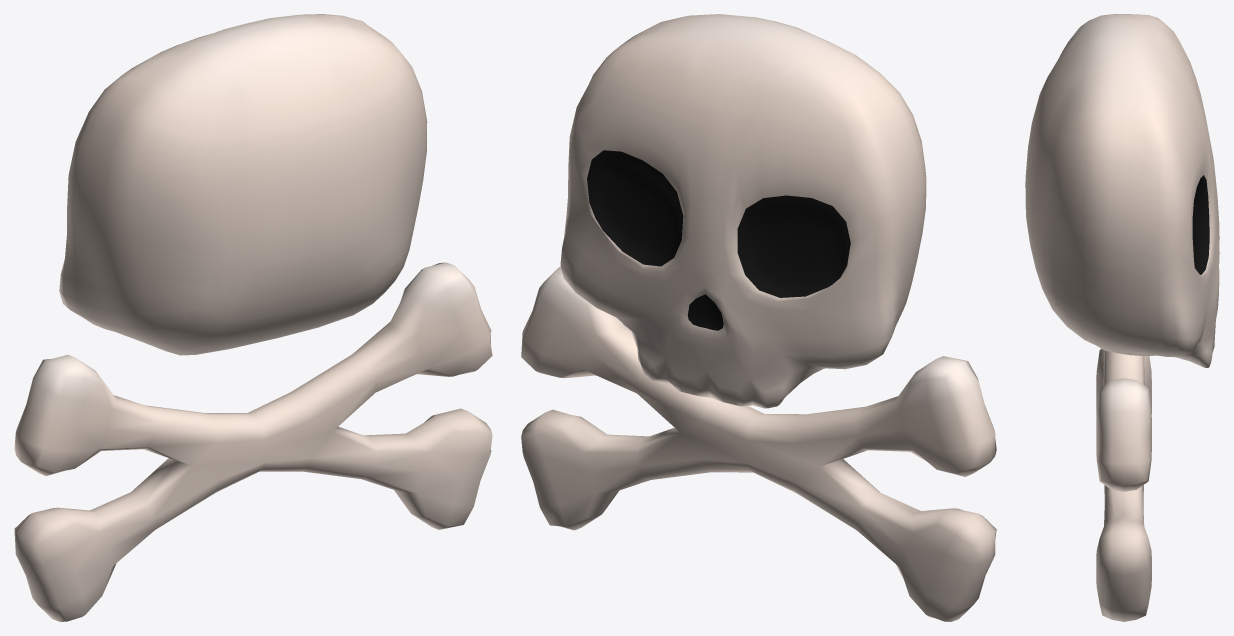
File: SkullBones.fbx
3 views of the same model, side by side, from view 1: azimuth 30°, elevation 25°; view 2: azimuth 150°, elevation 25°; view 3: azimuth 270°, elevation 25° (orthographic). The views are drawn at different scales.
Visible parts, largest first — view 1: SkullBones; view 2: SkullBones; view 3: SkullBones.
Boxes of the visible parts, x1=… form: SkullBones: x1=14, y1=14, x2=492, y2=621; SkullBones: x1=521, y1=14, x2=996, y2=621; SkullBones: x1=1025, y1=14, x2=1219, y2=621.
Size of the model in its own units: 204 by 228 by 80.86.
